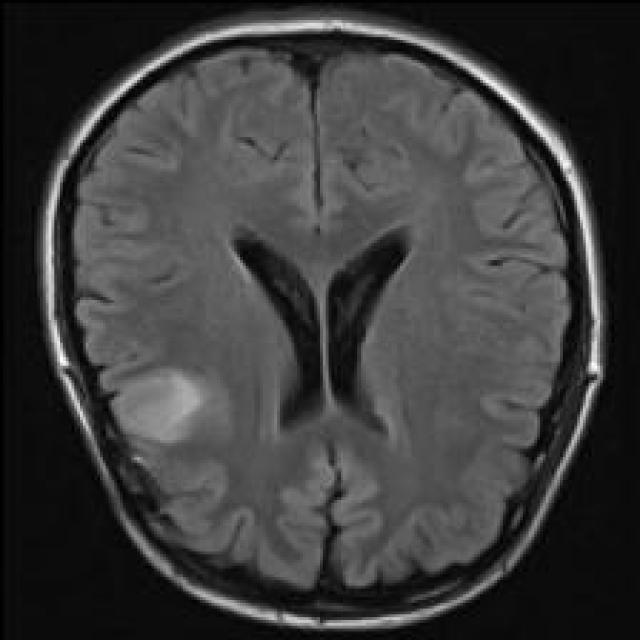Tumor: (109, 363, 220, 446)
